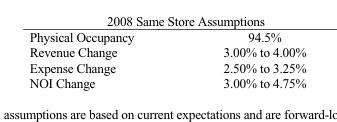table: (28, 29, 305, 90)
table column: (28, 29, 178, 90), (178, 29, 305, 90)
table row: (28, 44, 305, 60), (28, 29, 305, 44), (28, 60, 305, 75), (28, 75, 305, 90)
